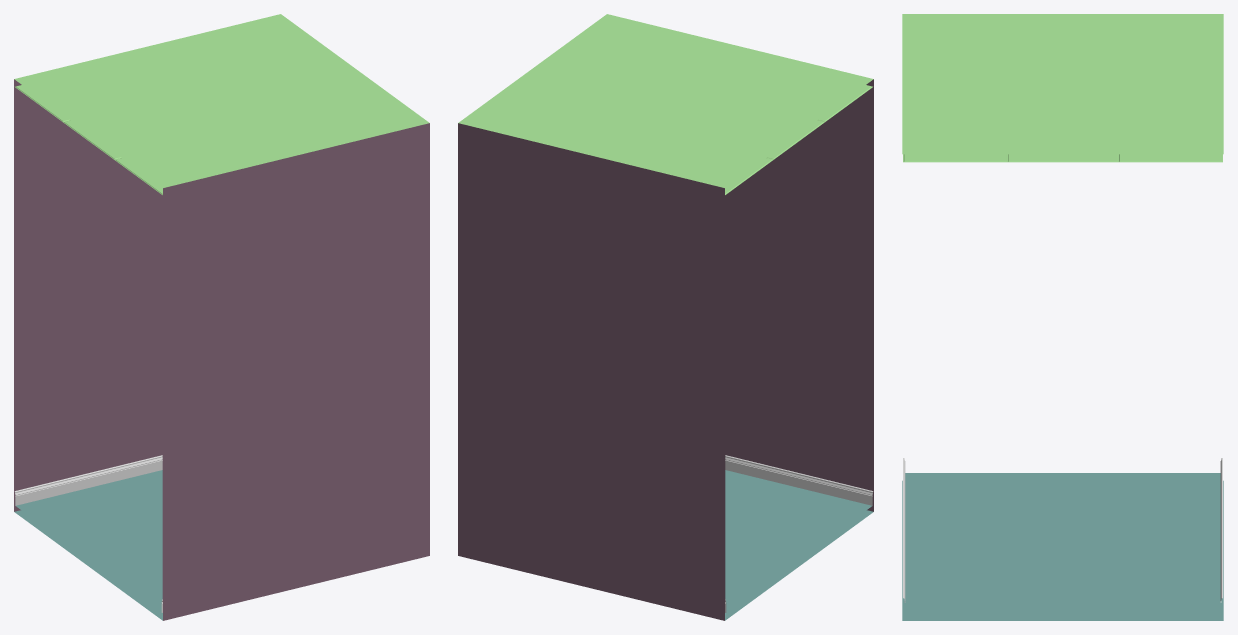
Rendered from Corridor_no_doors.fbx.
3 views of the same model, side by side, from view 1: azimuth 30°, elevation 25°; view 2: azimuth 150°, elevation 25°; view 3: azimuth 270°, elevation 25° (orthographic). The views are drawn at different scales.
Parts seen in each view (by area): view 1: Corridor_no_doors, Corridor_ceiling; view 2: Corridor_no_doors, Corridor_ceiling; view 3: Corridor_no_doors, Corridor_ceiling.
Part boxes in pixels (x1,y1,x2,y2): Corridor_no_doors: [14, 14, 429, 620]; Corridor_ceiling: [15, 85, 162, 194]; Corridor_no_doors: [458, 14, 873, 620]; Corridor_ceiling: [725, 85, 872, 194]; Corridor_no_doors: [902, 14, 1223, 620]; Corridor_ceiling: [903, 154, 1222, 162].
Size of the model in its own units: 2 by 3.1 by 1.94.
